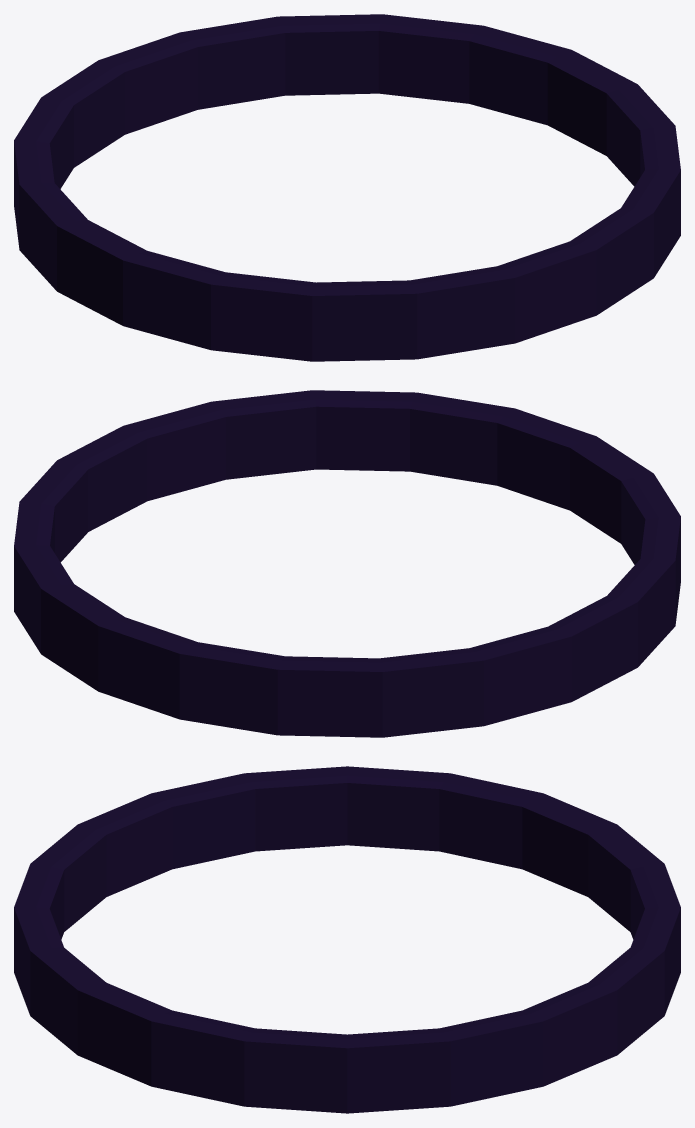
File: ring.fbx
The picture shows the model from 3 angles, top to bottom: view 1: azimuth 30°, elevation 25°; view 2: azimuth 150°, elevation 25°; view 3: azimuth 270°, elevation 25°; orthographic projection.
Parts seen in each view (by area): view 1: Circle; view 2: Circle; view 3: Circle.
Boxes of the visible parts, bbox=[...] form: Circle: bbox=[14, 14, 680, 361]; Circle: bbox=[14, 390, 680, 737]; Circle: bbox=[14, 766, 680, 1113].
Size of the model in its own units: 398 by 42.99 by 398.
